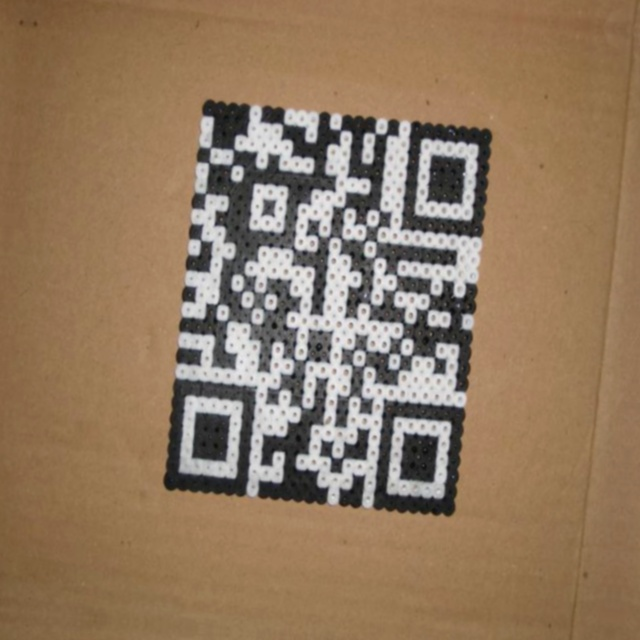qr-code: (164, 100, 493, 516)
